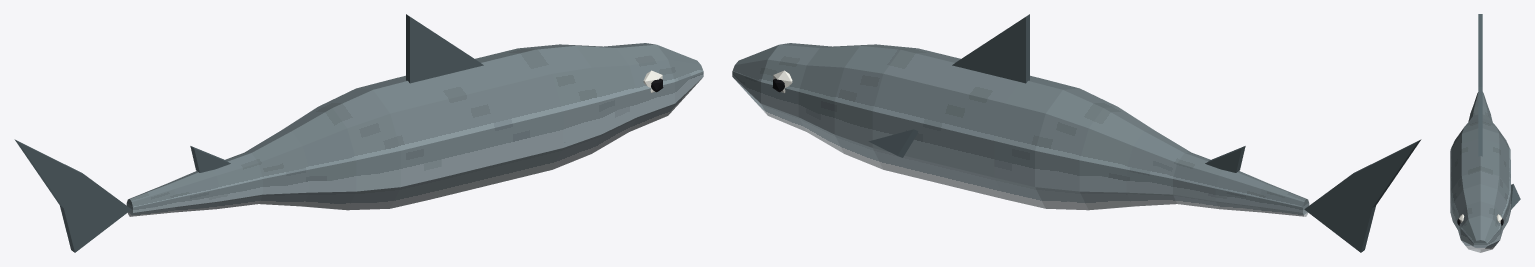
The model's file is blacktip_reef_shark.glb.
The picture shows the model from 3 angles, left to right: view 1: azimuth 30°, elevation 25°; view 2: azimuth 150°, elevation 25°; view 3: azimuth 270°, elevation 25°; orthographic projection. The views are drawn at different scales.
Parts seen in each view (by area): view 1: fish_blacktip_reef_shark; view 2: fish_blacktip_reef_shark; view 3: fish_blacktip_reef_shark.
Part boxes in pixels (x1,y1,x2,y2): fish_blacktip_reef_shark: (14, 14, 703, 252); fish_blacktip_reef_shark: (732, 14, 1421, 252); fish_blacktip_reef_shark: (1450, 14, 1520, 252).
Size of the model in its own units: 1.2 by 0.31 by 0.1993.
Materials: 4 (1 with a texture image).
